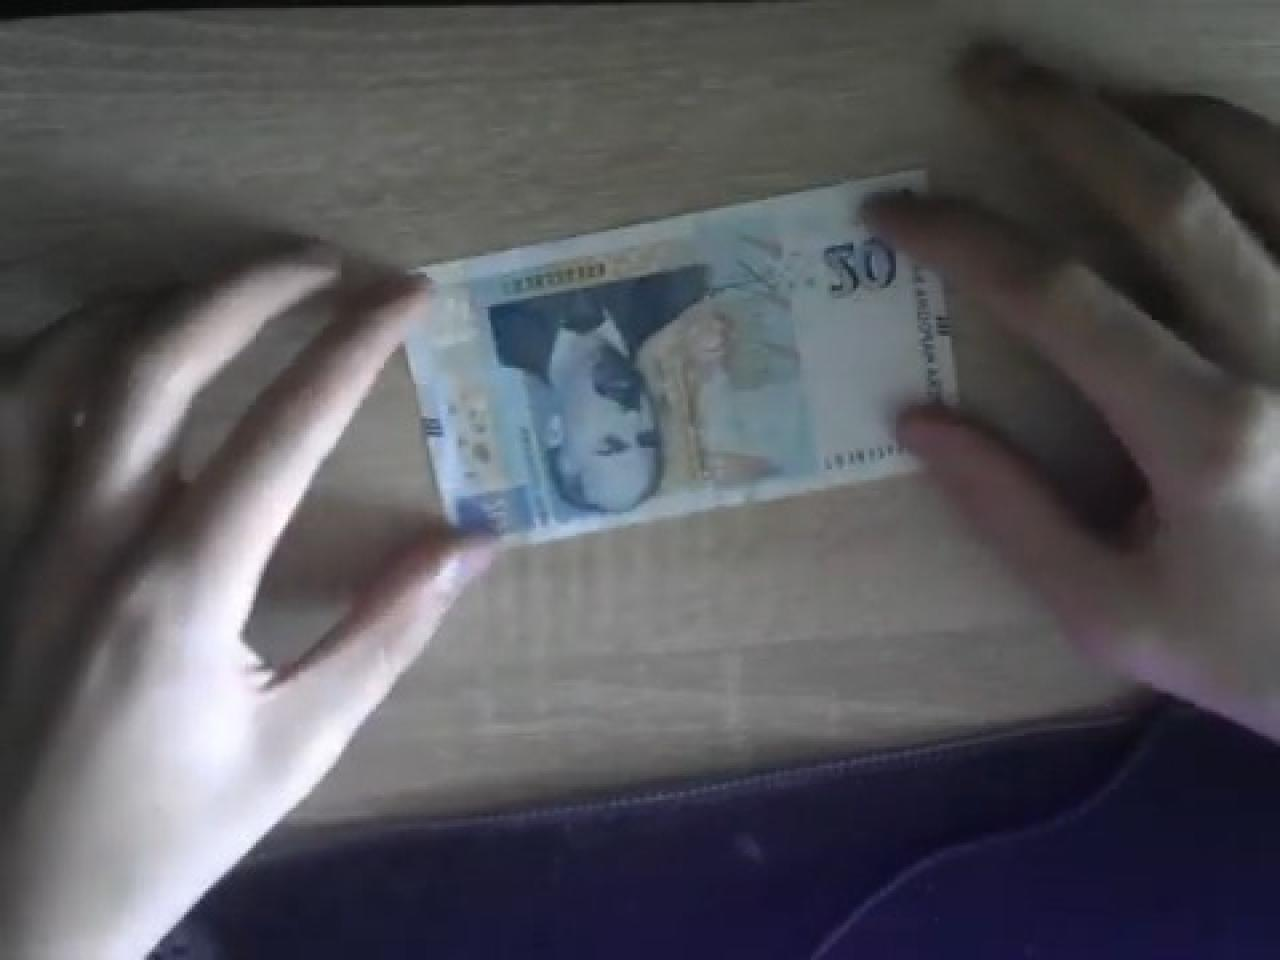20leva: (405, 168, 982, 544)
